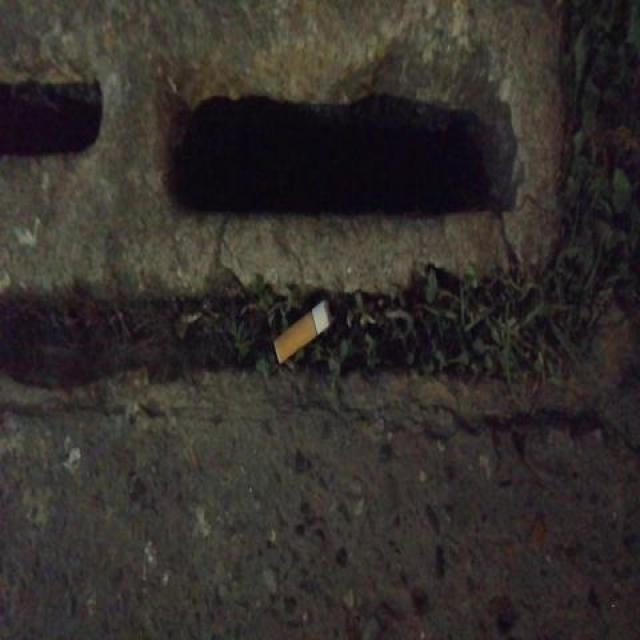non-organic waste: (269, 294, 340, 366)
